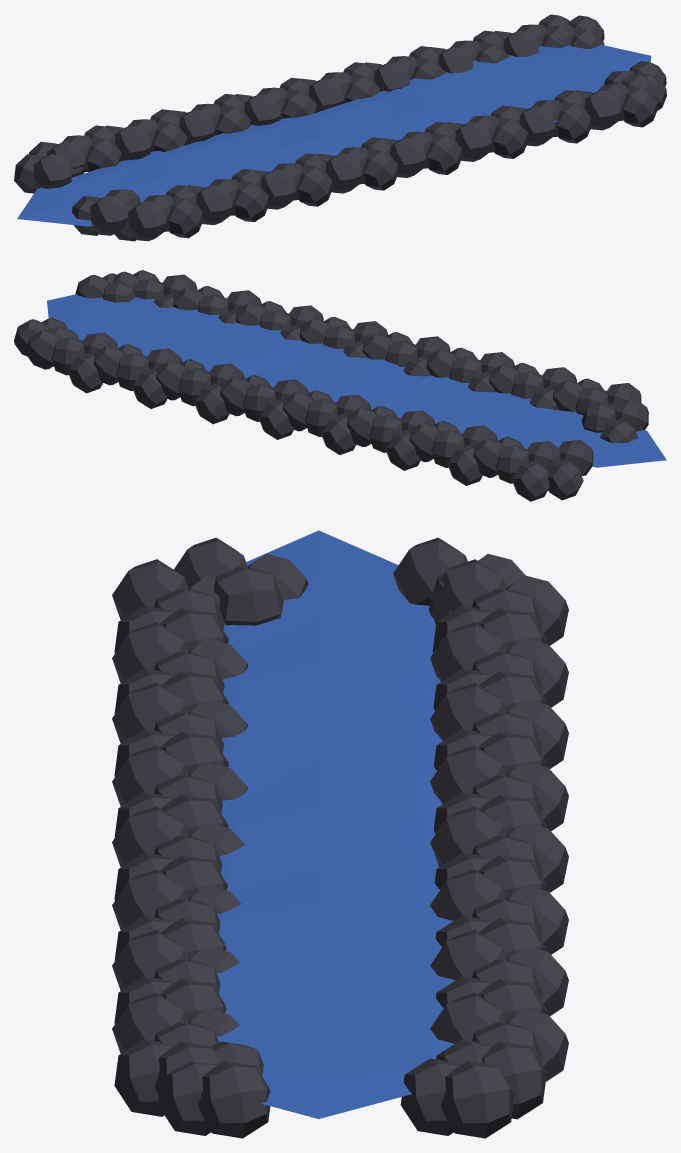
Rendered from shuck_long_obstacle.fbx.
3 views of the same model, one above another, from view 1: azimuth 30°, elevation 25°; view 2: azimuth 150°, elevation 25°; view 3: azimuth 270°, elevation 25° (orthographic). The views are drawn at different scales.
Visible parts, largest first — view 1: Cube.085, Cube.083, Cube.084, Cube.082, Cube.081, Cube.092, Cube.064, Cube.079, Cube.054, Cube.044, Cube.059, Cube.049 (+49 smaller); view 2: Cube.085, Cube.083, Cube.084, Cube.082, Cube.006, Cube.095, Cube.016, Cube.007, Cube.036, Cube.027, Cube.028, Cube.017 (+58 smaller); view 3: Cube.085, Cube.083, Cube.084, Cube.082, Cube.091, Cube.086, Cube.093, Cube.054, Cube.090, Cube.097, Cube.087, Cube.028 (+74 smaller).
Part boxes in pixels (x1=…): Cube.085: x1=389, y1=44, x2=651, y2=127; Cube.083: x1=118, y1=116, x2=305, y2=195; Cube.084: x1=273, y1=90, x2=425, y2=156; Cube.082: x1=17, y1=151, x2=164, y2=226; Cube.081: x1=128, y1=201, x2=166, y2=241; Cube.092: x1=90, y1=196, x2=128, y2=235; Cube.064: x1=296, y1=166, x2=332, y2=206; Cube.079: x1=167, y1=197, x2=203, y2=238; Cube.054: x1=621, y1=86, x2=657, y2=127; Cube.044: x1=426, y1=134, x2=462, y2=174; Cube.059: x1=555, y1=102, x2=591, y2=143; Cube.049: x1=491, y1=118, x2=527, y2=158; Cube.085: x1=47, y1=294, x2=302, y2=375; Cube.083: x1=331, y1=367, x2=568, y2=440; Cube.084: x1=244, y1=341, x2=416, y2=398; Cube.082: x1=497, y1=410, x2=666, y2=467; Cube.006: x1=512, y1=461, x2=549, y2=501; Cube.095: x1=548, y1=459, x2=583, y2=500; Cube.016: x1=321, y1=414, x2=356, y2=454; Cube.007: x1=447, y1=445, x2=482, y2=485; Cube.036: x1=194, y1=383, x2=229, y2=424; Cube.027: x1=68, y1=352, x2=102, y2=393; Cube.028: x1=25, y1=330, x2=59, y2=369; Cube.017: x1=385, y1=430, x2=420, y2=470; Cube.085: x1=216, y1=869, x2=455, y2=1118; Cube.083: x1=221, y1=619, x2=442, y2=840; Cube.084: x1=219, y1=762, x2=439, y2=899; Cube.082: x1=223, y1=530, x2=440, y2=706; Cube.091: x1=441, y1=1061, x2=514, y2=1138; Cube.086: x1=198, y1=1061, x2=270, y2=1138; Cube.093: x1=214, y1=567, x2=283, y2=625; Cube.054: x1=114, y1=1039, x2=174, y2=1116; Cube.090: x1=400, y1=1058, x2=460, y2=1135; Cube.097: x1=393, y1=537, x2=467, y2=605; Cube.087: x1=158, y1=1062, x2=217, y2=1135; Cube.028: x1=481, y1=1041, x2=546, y2=1119.
Size of the model in its own units: 1493 by 107 by 477.
